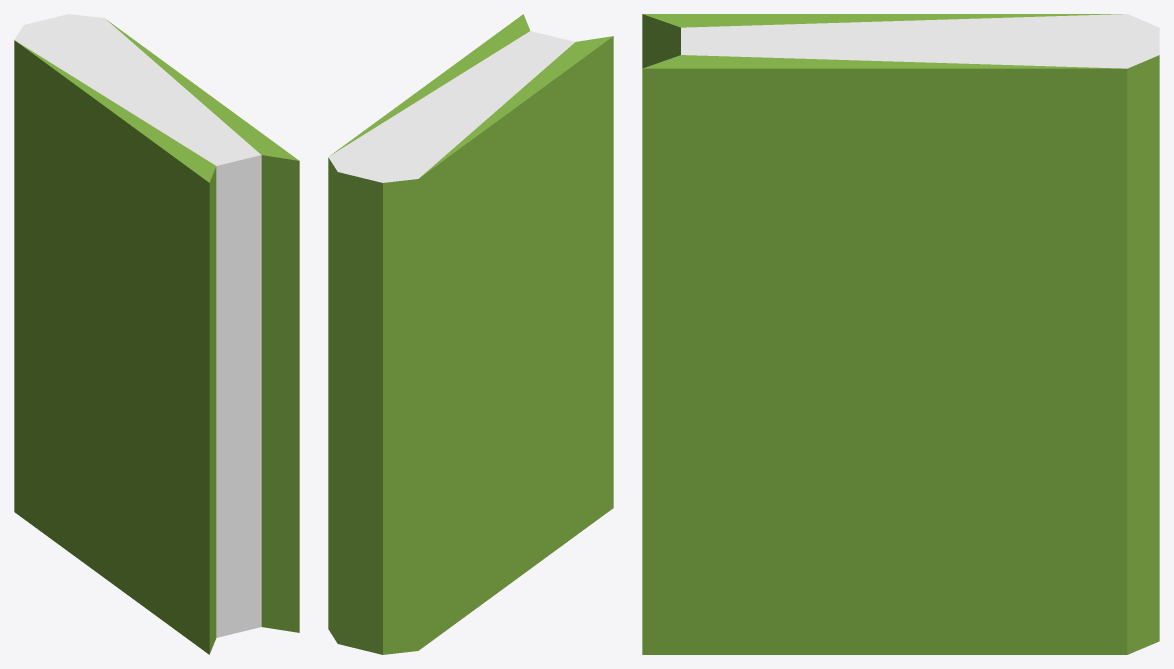
The model's file is green_book.glb.
The picture shows the model from 3 angles, left to right: view 1: azimuth 30°, elevation 25°; view 2: azimuth 150°, elevation 25°; view 3: azimuth 270°, elevation 25°; orthographic projection. The views are drawn at different scales.
Visible parts, largest first — view 1: group413761094; view 2: group413761094; view 3: group413761094.
Boxes of the visible parts, x1,y1,x2,y2 form: group413761094: (14,14,299,654); group413761094: (328,14,613,654); group413761094: (642,14,1159,654).
Size of the model in its own units: 0.0466 by 0.2331 by 0.1865.
